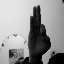f: (27, 4, 52, 55)
